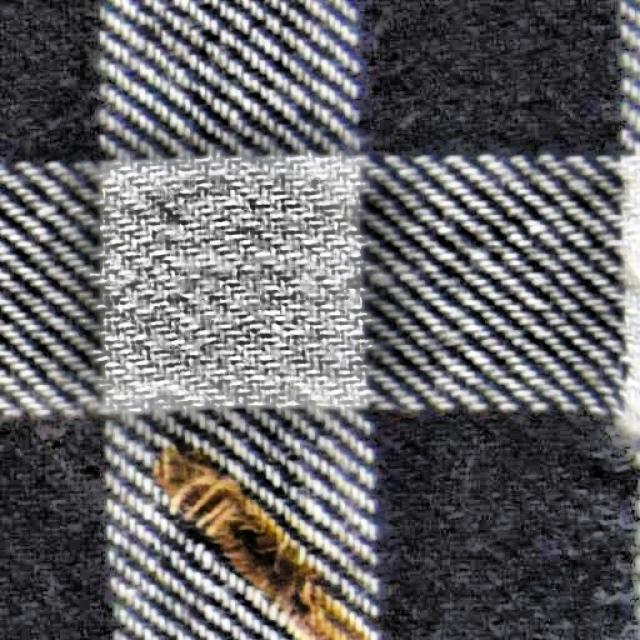gray stitch: (144, 444, 360, 639)
